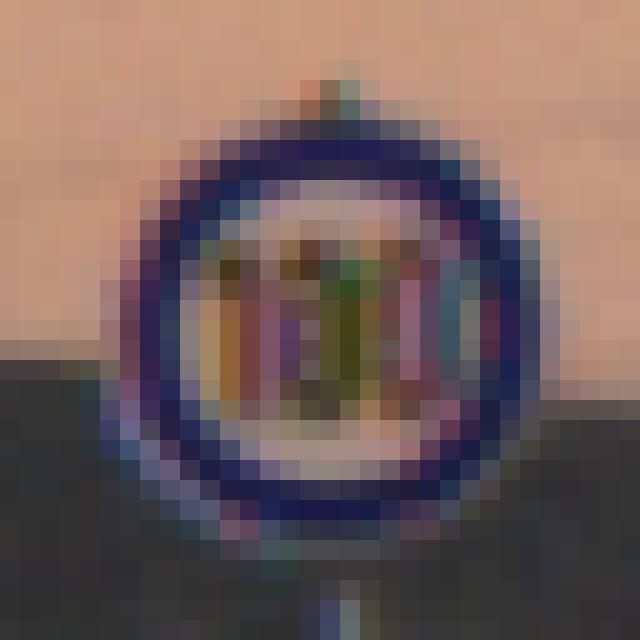SPEED LIMIT 100: (118, 121, 542, 544)
